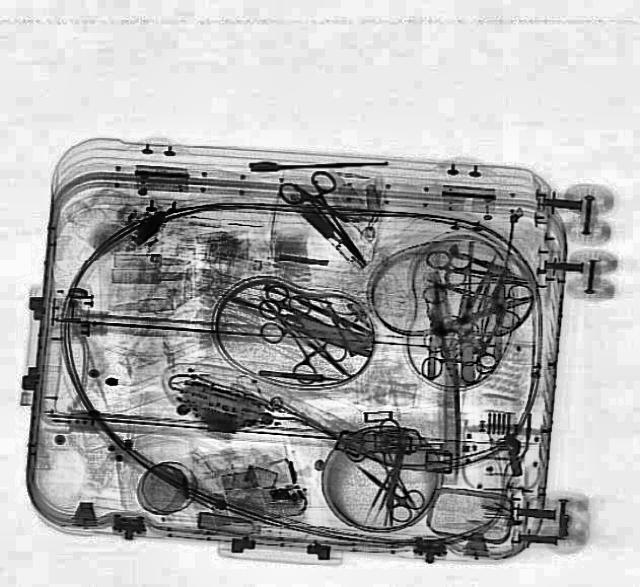Scissors: (269, 163, 386, 275), (236, 279, 354, 385), (338, 450, 432, 528), (418, 250, 530, 306)
